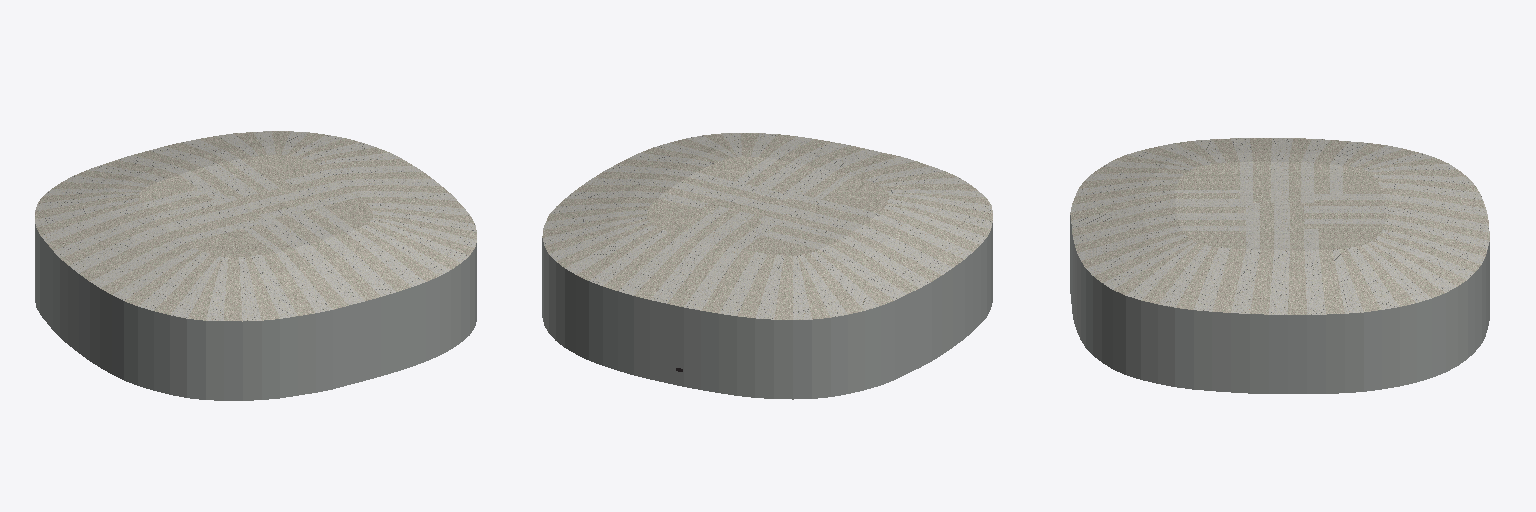
3 renders of one model, left to right at view 1: azimuth 30°, elevation 25°; view 2: azimuth 150°, elevation 25°; view 3: azimuth 270°, elevation 25°, orthographic.
Visible parts, largest first — view 1: Tokyo_Dome_Main-Concrete_Form_4x81, Tokyo_Dome_g_40011-Formica_Graystone, Tokyo_Dome_g_40011-Terrazzo_Tile_Light; view 2: Tokyo_Dome_Main-Concrete_Form_4x81, Tokyo_Dome_g_40011-Formica_Graystone, Tokyo_Dome_g_40011-Terrazzo_Tile_Light; view 3: Tokyo_Dome_Main-Concrete_Form_4x81, Tokyo_Dome_g_40011-Formica_Graystone, Tokyo_Dome_g_40011-Terrazzo_Tile_Light.
Part boxes in pixels (left/top/right/bottom): Tokyo_Dome_Main-Concrete_Form_4x81: left=35, top=224, right=476, bottom=400; Tokyo_Dome_g_40011-Formica_Graystone: left=35, top=131, right=476, bottom=321; Tokyo_Dome_g_40011-Terrazzo_Tile_Light: left=35, top=131, right=476, bottom=320; Tokyo_Dome_Main-Concrete_Form_4x81: left=542, top=223, right=992, bottom=399; Tokyo_Dome_g_40011-Formica_Graystone: left=542, top=133, right=992, bottom=319; Tokyo_Dome_g_40011-Terrazzo_Tile_Light: left=543, top=133, right=992, bottom=319; Tokyo_Dome_Main-Concrete_Form_4x81: left=1070, top=215, right=1489, bottom=393; Tokyo_Dome_g_40011-Formica_Graystone: left=1070, top=138, right=1489, bottom=314; Tokyo_Dome_g_40011-Terrazzo_Tile_Light: left=1070, top=138, right=1489, bottom=314.
Size of the model in its own units: 201 by 52.86 by 201.
Materials: 50 (31 with a texture image).